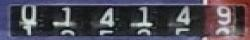digits: (19, 5, 38, 25), (98, 6, 115, 28), (175, 5, 192, 25), (59, 6, 74, 28), (216, 5, 231, 25), (137, 6, 151, 26)
